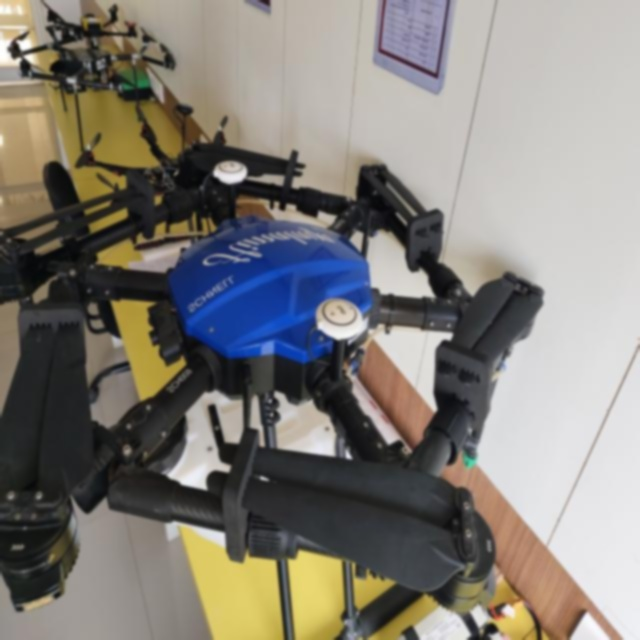agriculturedrone: (0, 149, 551, 627)
